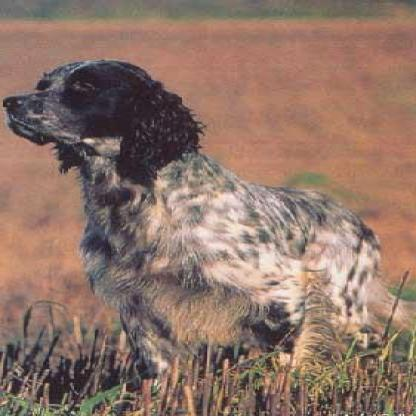English_setter: (4, 56, 412, 413)
